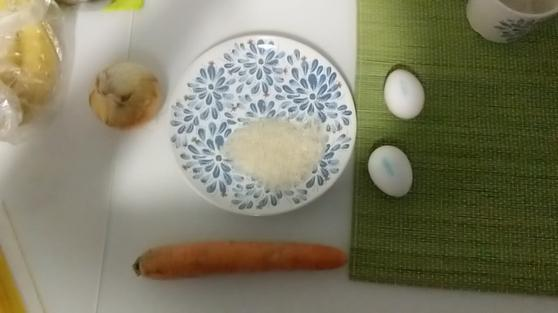carrot: (127, 234, 363, 288)
egg: (365, 139, 421, 197), (375, 65, 430, 123)
onion: (73, 56, 166, 137)
rice: (219, 109, 334, 195)
